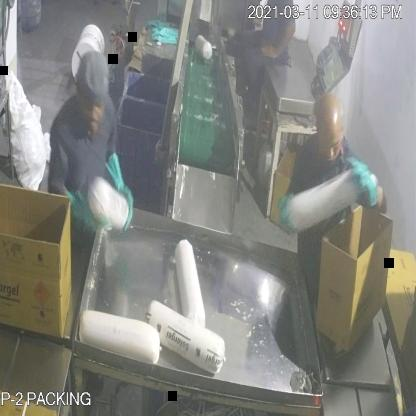no_glove: (257, 21, 299, 64)
